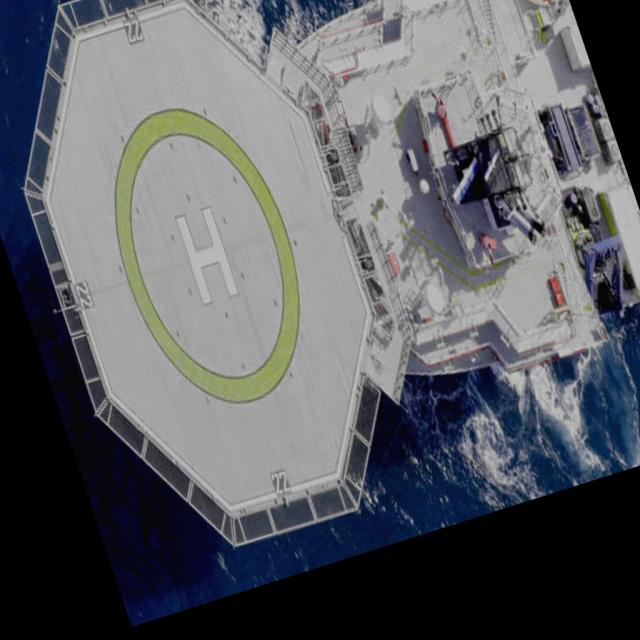helipad: (107, 102, 304, 410)
